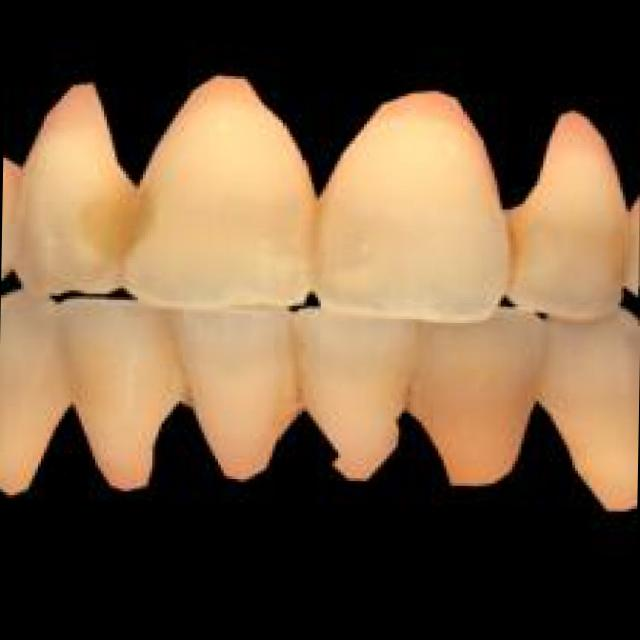cavity: (0, 66, 640, 514), (0, 288, 640, 511), (123, 68, 324, 312), (314, 85, 516, 324), (506, 106, 640, 323), (18, 78, 144, 300), (3, 129, 26, 306), (620, 188, 640, 328)
